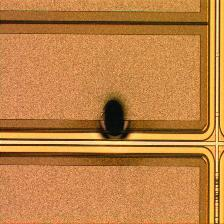PARTICLE: (88, 89, 144, 145)
